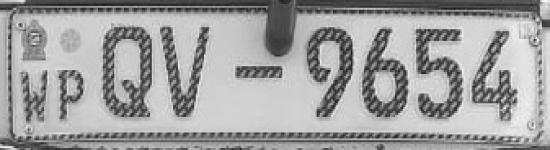-: (229, 60, 286, 86)
4: (468, 25, 526, 130)
5: (414, 17, 467, 124)
6: (360, 21, 413, 122)
9: (302, 18, 358, 125)
P: (57, 64, 92, 126)
Q: (96, 19, 156, 126)
V: (158, 21, 223, 126)
W: (16, 63, 53, 128)
